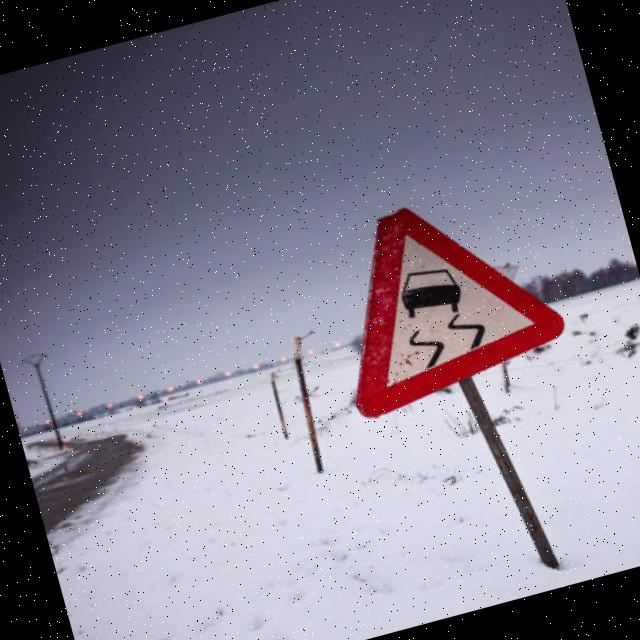road_slippery: (306, 162, 584, 424)
